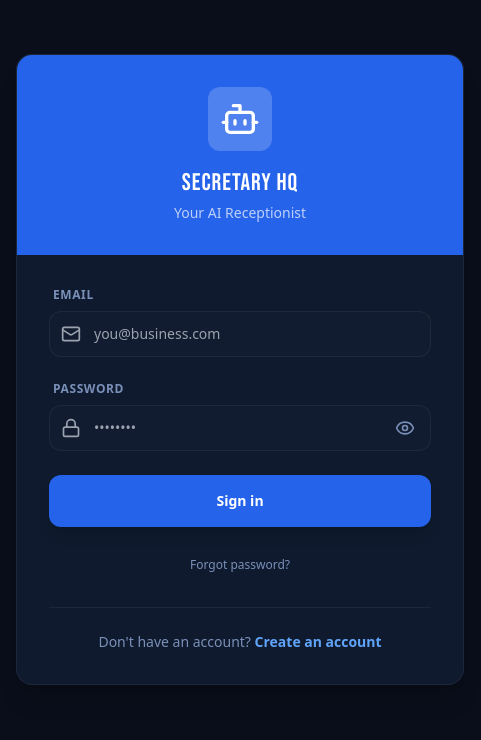
Scenario: LoginView copy › HAPPY: surfaces customer-friendly connection error, not dev-speak
Type "a@b.com" into the field labelled "Email" at (240, 334), box [49,310,431,356]
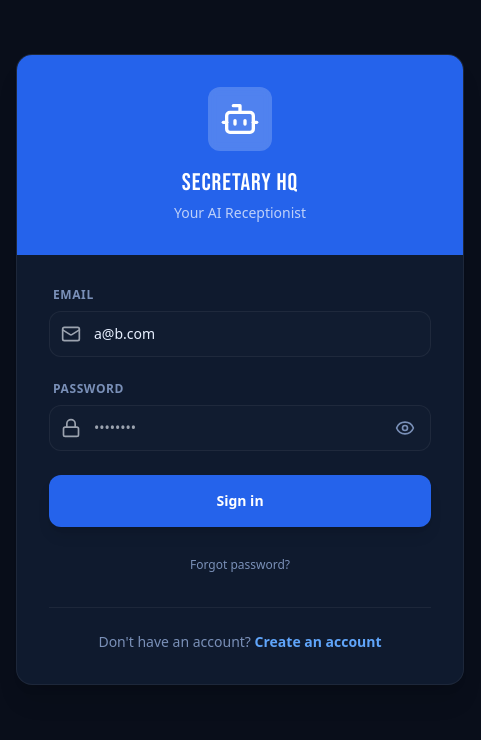
Type "pw" into the password field labelled "Password" at (240, 428), box [49,404,431,450]
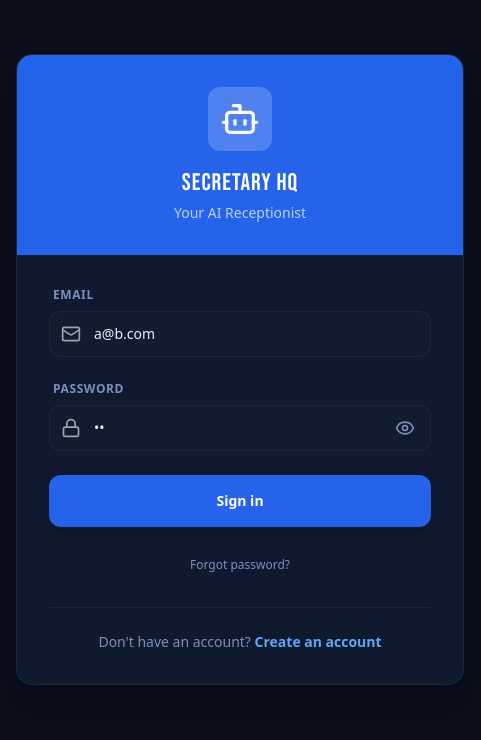
Click the button "Sign in" at (240, 500), box [49,474,431,526]
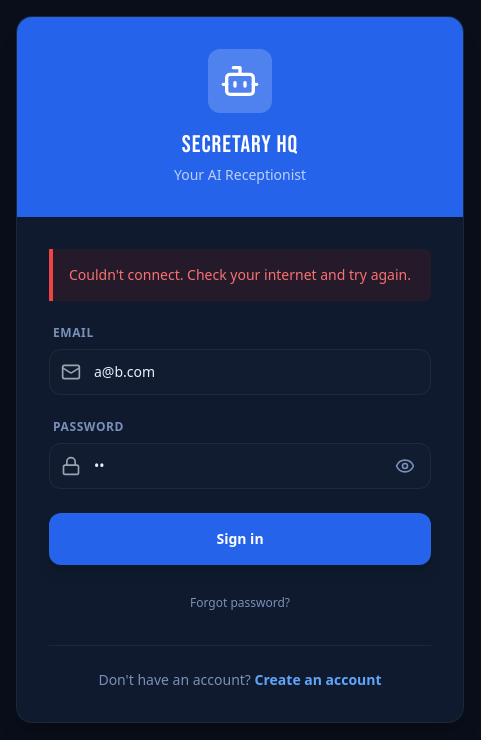
Expected: the message does not show "backend server", [49,248,431,300]
Expected: the message shows "Couldn't connect", [69,264,411,284]
